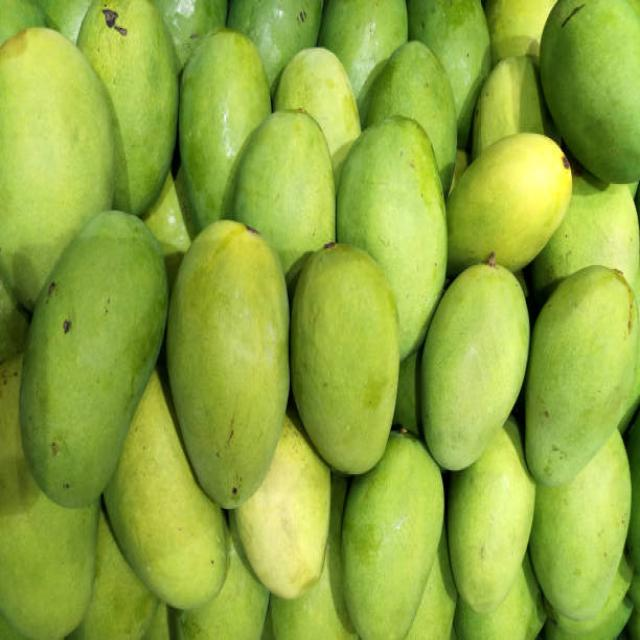mango: (20, 212, 168, 507), (166, 220, 289, 508), (0, 27, 115, 309), (104, 370, 225, 608), (336, 117, 448, 358), (290, 243, 399, 474), (525, 265, 636, 486), (420, 262, 530, 469), (342, 432, 444, 638), (78, 0, 175, 214), (530, 430, 630, 619), (180, 28, 271, 230), (540, 0, 640, 182), (446, 133, 571, 274), (235, 415, 331, 598), (449, 420, 535, 612), (234, 110, 335, 272), (0, 492, 99, 638), (531, 170, 639, 299), (368, 42, 458, 194), (409, 0, 491, 148), (274, 47, 361, 186), (319, 0, 408, 126), (471, 57, 545, 158)
